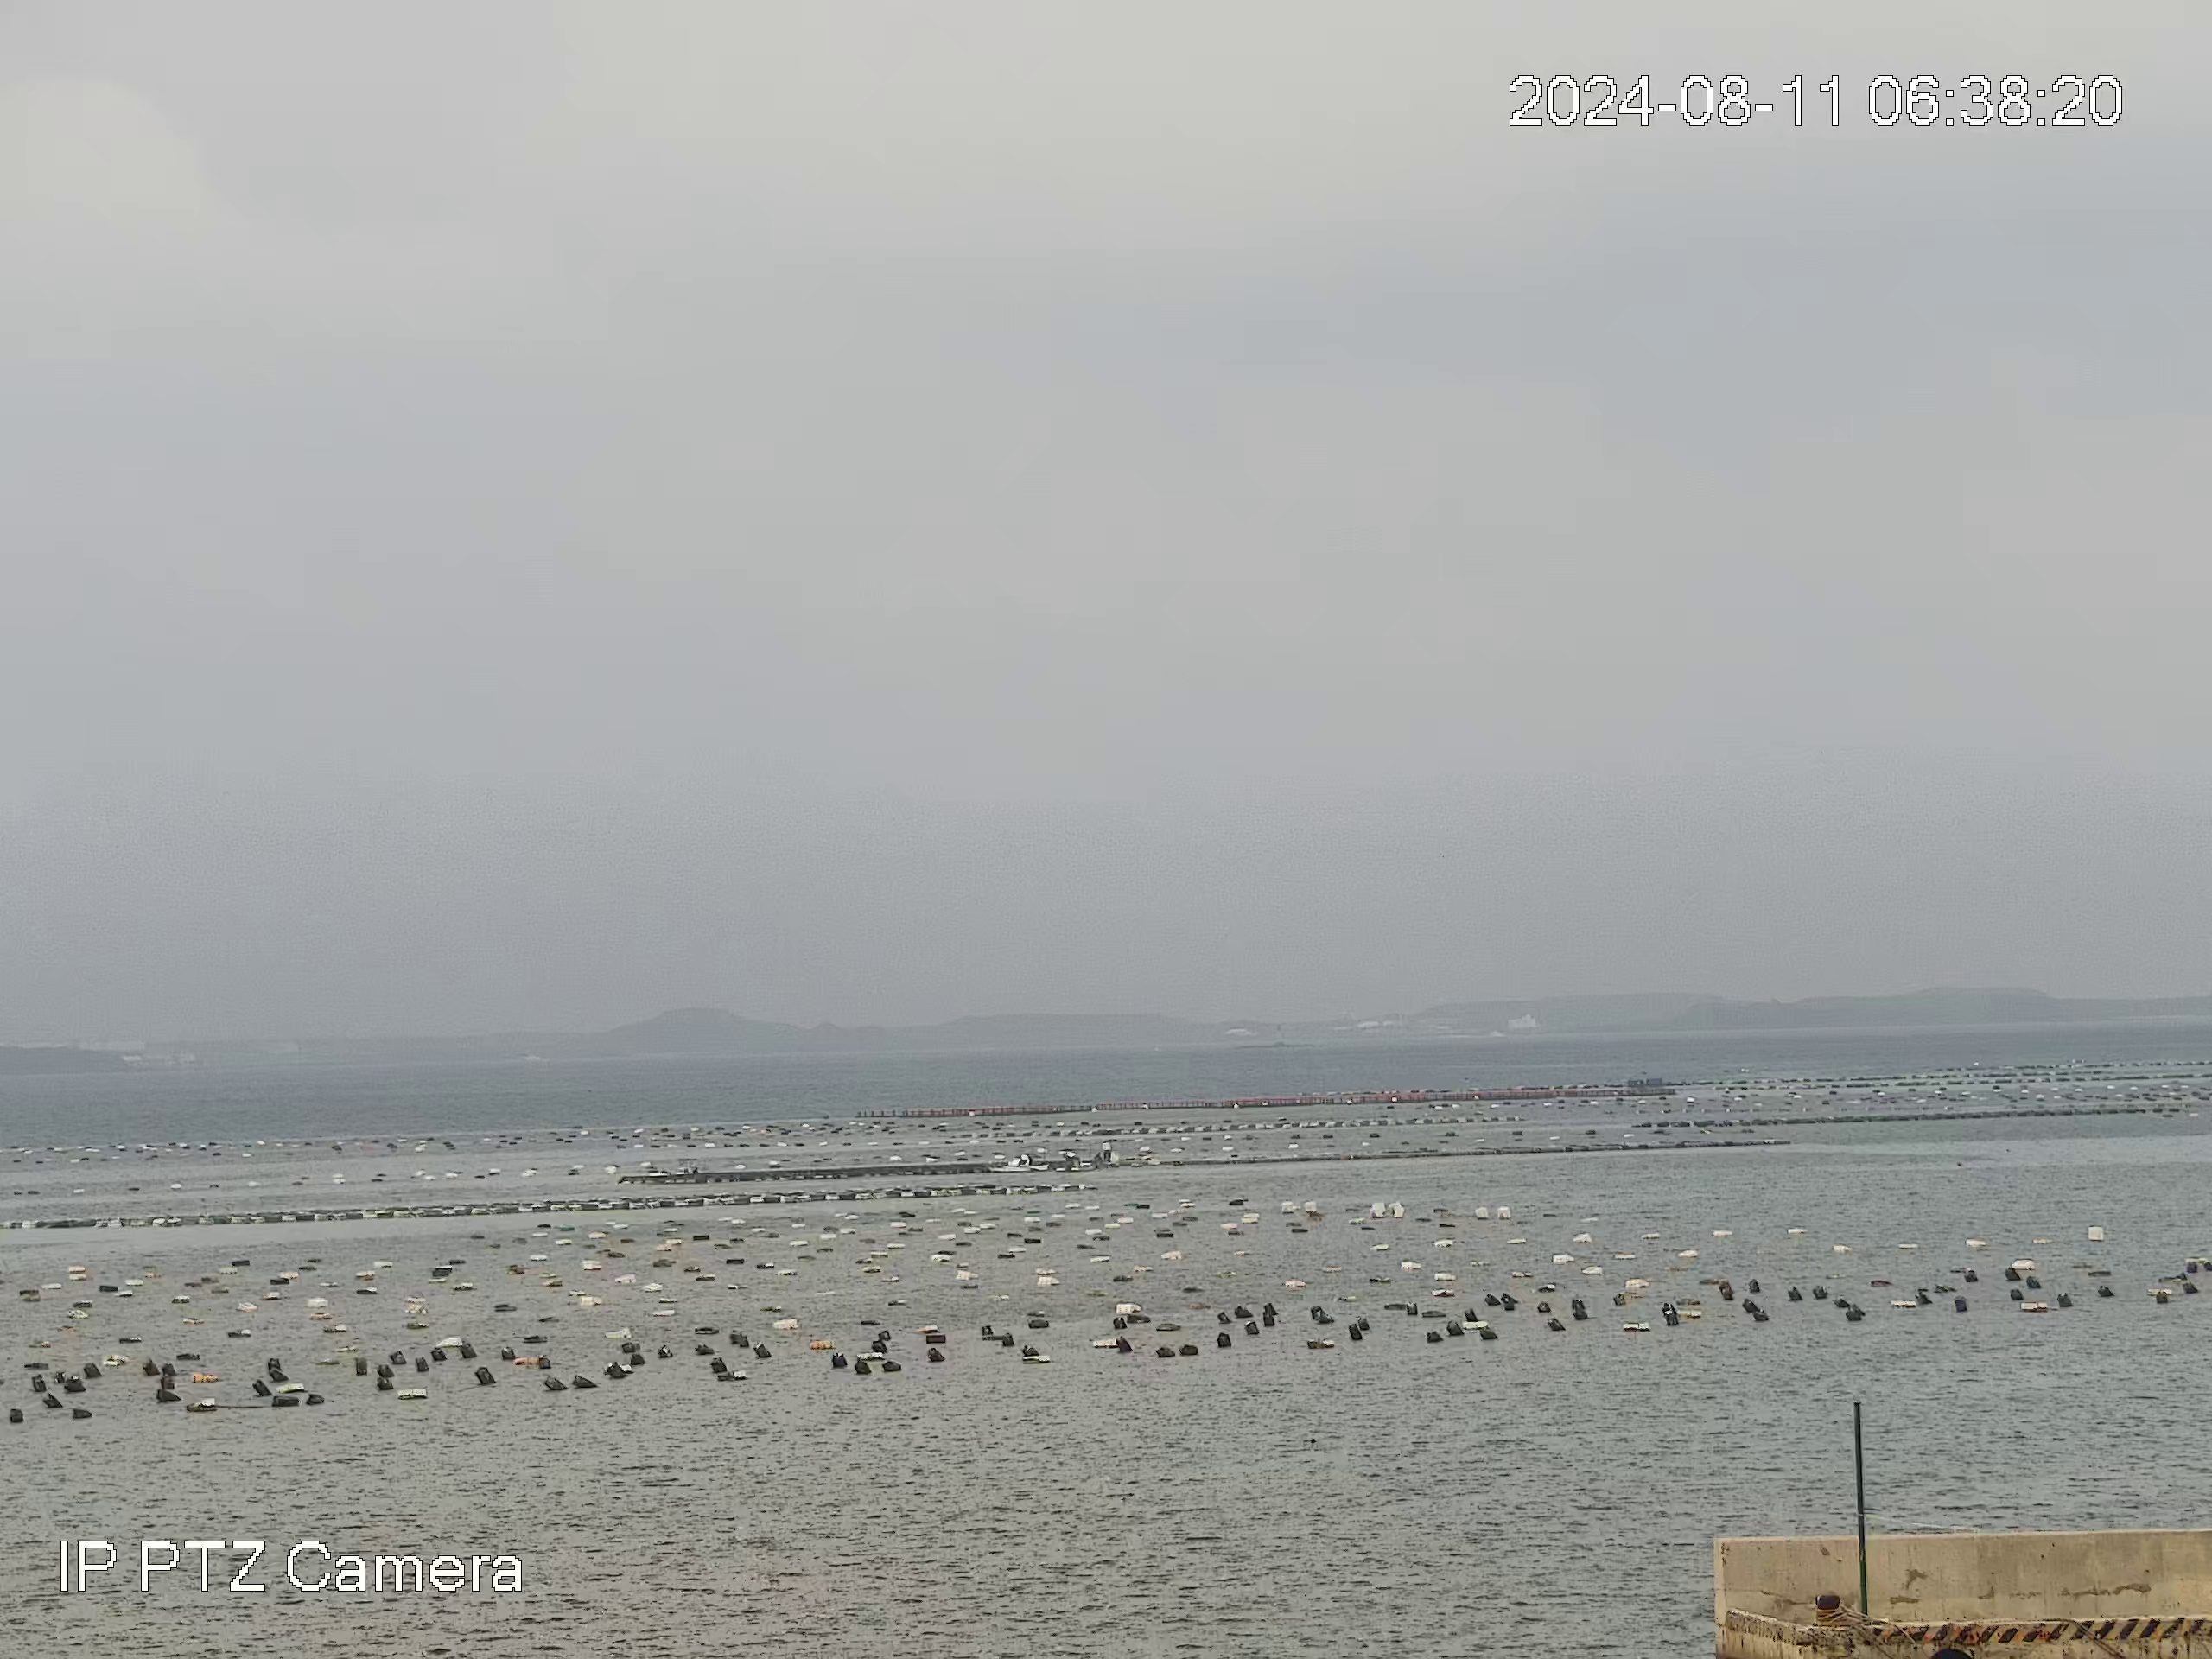boat: (984, 1152, 1050, 1173), (1052, 1150, 1108, 1171)
